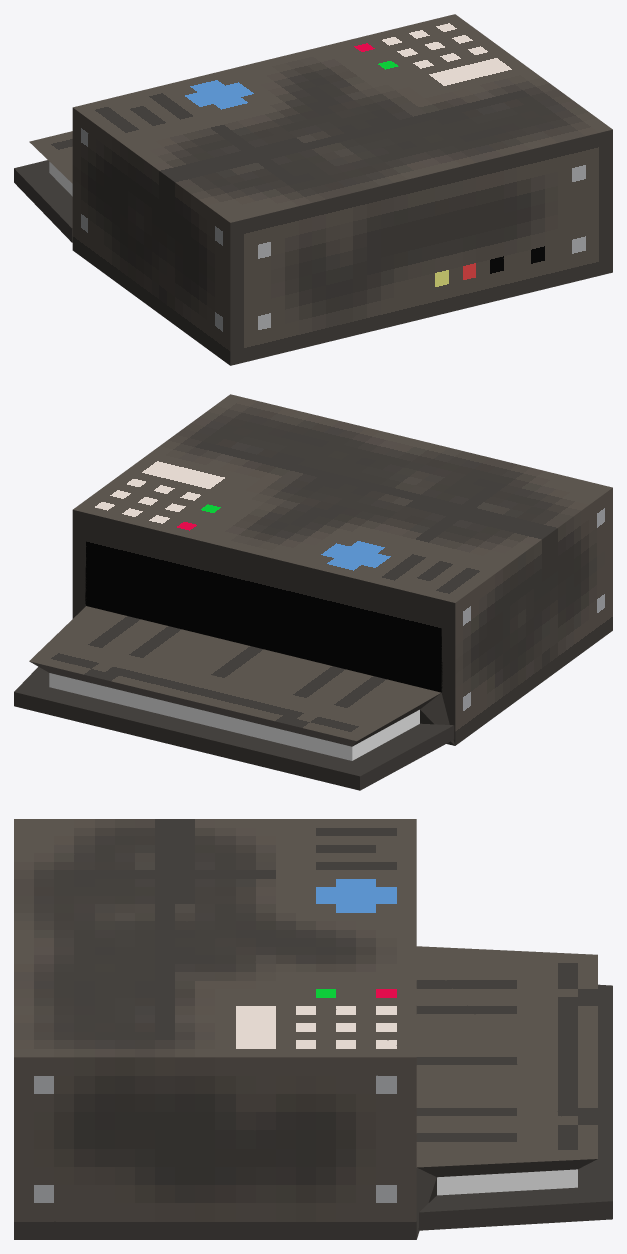
File: Printer.gltf
3 views of the same model, one above another, from view 1: azimuth 30°, elevation 25°; view 2: azimuth 150°, elevation 25°; view 3: azimuth 270°, elevation 25° (orthographic). The views are drawn at different scales.
Visible parts, largest first — view 1: mesh; view 2: mesh; view 3: mesh.
Part boxes in pixels (<box>): mesh: <box>14,14,612,365</box>; mesh: <box>14,394,612,790</box>; mesh: <box>14,819,612,1239</box>.
Bounding box in the file's own units: 1.75 × 0.625 × 1.86.
1 material, 1 textured.
